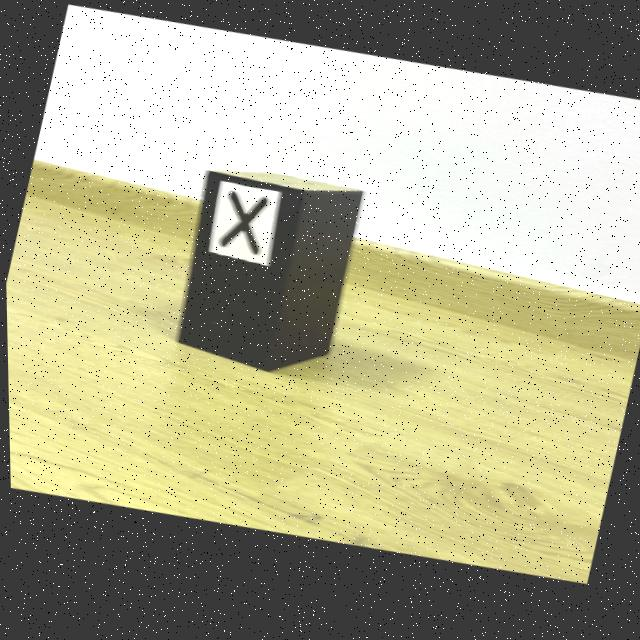X: (220, 195, 266, 258)
